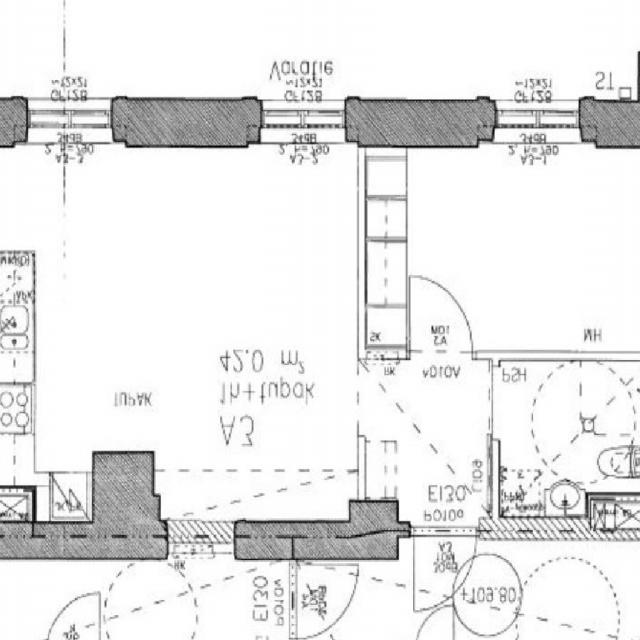door: (414, 525, 477, 611), (411, 276, 472, 358)
